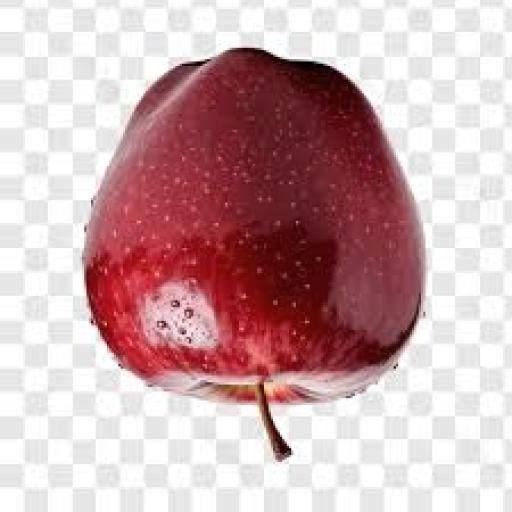apple: (85, 50, 425, 458)
